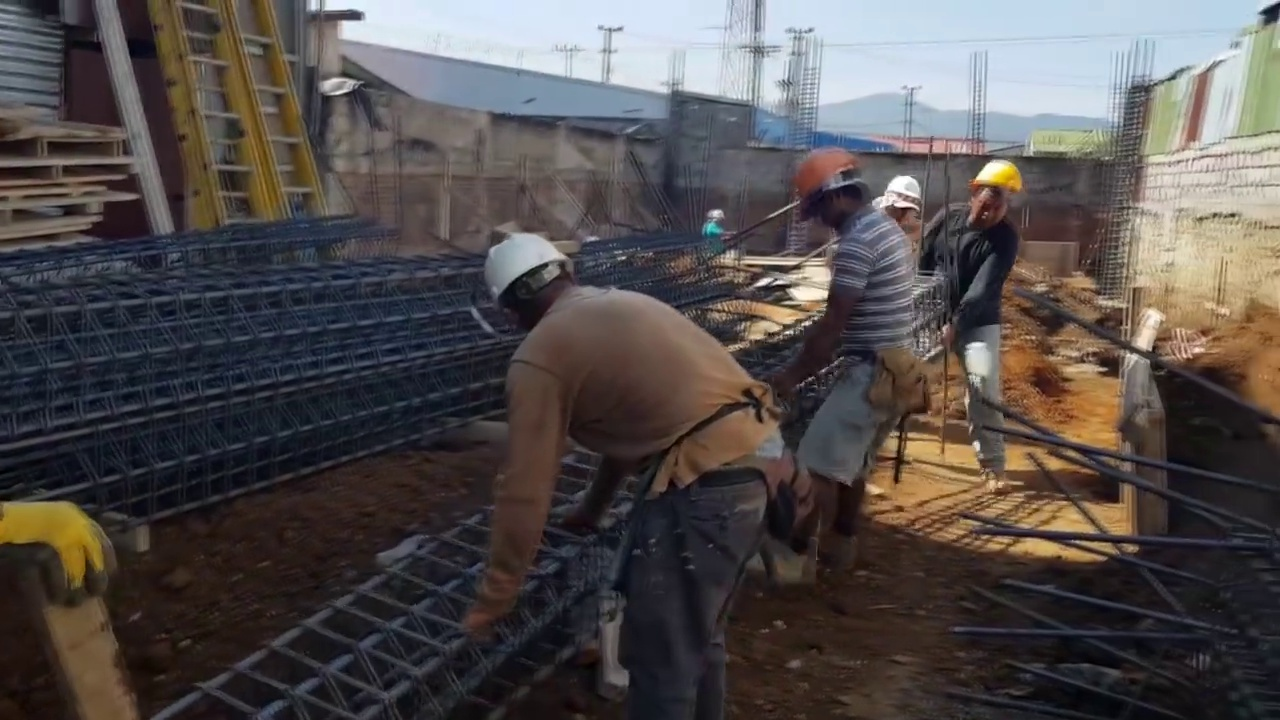helmet: (482, 227, 565, 310), (791, 144, 862, 214), (971, 159, 1024, 195), (886, 176, 923, 207), (706, 208, 726, 220)
helmet-on: (790, 143, 873, 238), (961, 154, 1021, 232), (884, 175, 930, 234), (705, 209, 725, 226)
person: (470, 225, 793, 719), (766, 145, 911, 592), (932, 142, 1025, 494), (701, 208, 729, 251)
